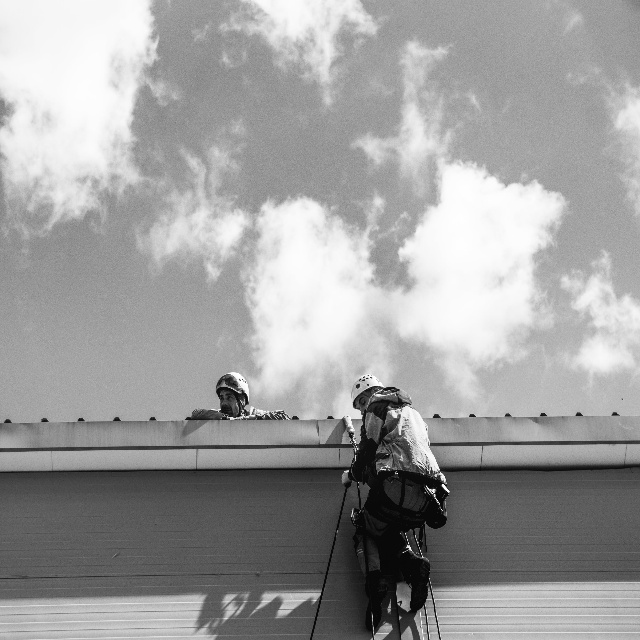Guantes: (341, 469, 354, 488)
